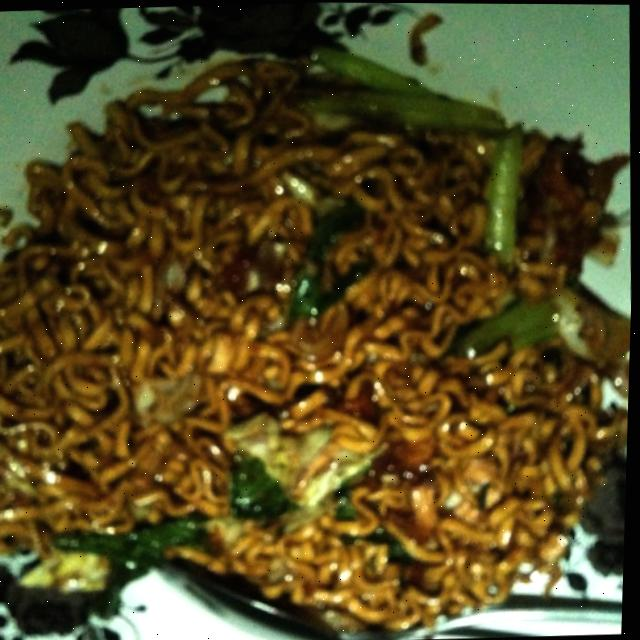面条主食: (0, 35, 639, 637)
